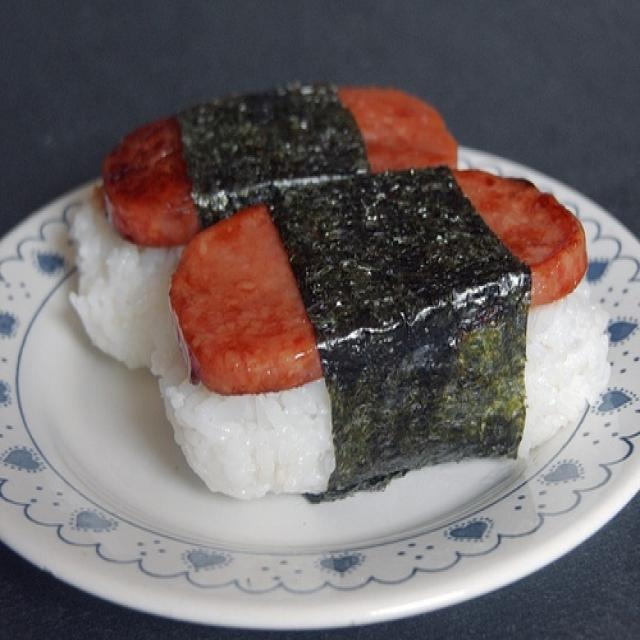寿司卷物: (50, 92, 598, 506)
